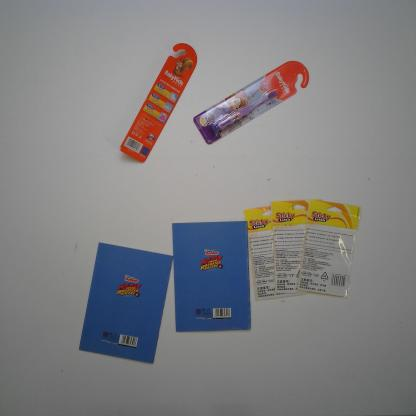Personal Hygiene: (192, 57, 312, 145), (117, 41, 200, 165)
Stationery: (77, 239, 176, 366), (171, 218, 253, 334), (294, 196, 364, 300), (245, 205, 306, 302), (269, 198, 322, 298)
